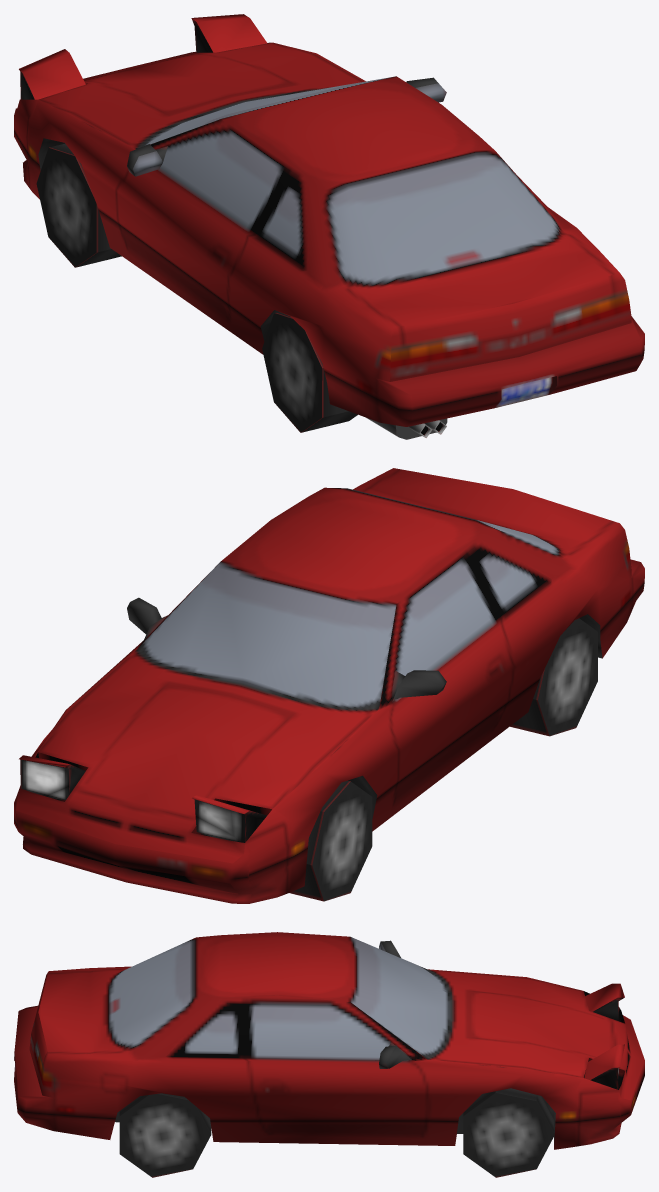
File: fhqDiecast18240SXCoupePreFL.fbx
The picture shows the model from 3 angles, top to bottom: view 1: azimuth 30°, elevation 25°; view 2: azimuth 150°, elevation 25°; view 3: azimuth 270°, elevation 25°; orthographic projection. The views are drawn at different scales.
Parts seen in each view (by area): view 1: fhqoneviaPFL; view 2: fhqoneviaPFL; view 3: fhqoneviaPFL.
Part boxes in pixels (bbox=[...]): fhqoneviaPFL: bbox=[14, 14, 644, 439]; fhqoneviaPFL: bbox=[14, 468, 644, 903]; fhqoneviaPFL: bbox=[14, 932, 644, 1177].
Size of the model in its own units: 0.2199 by 0.1419 by 0.4987.
